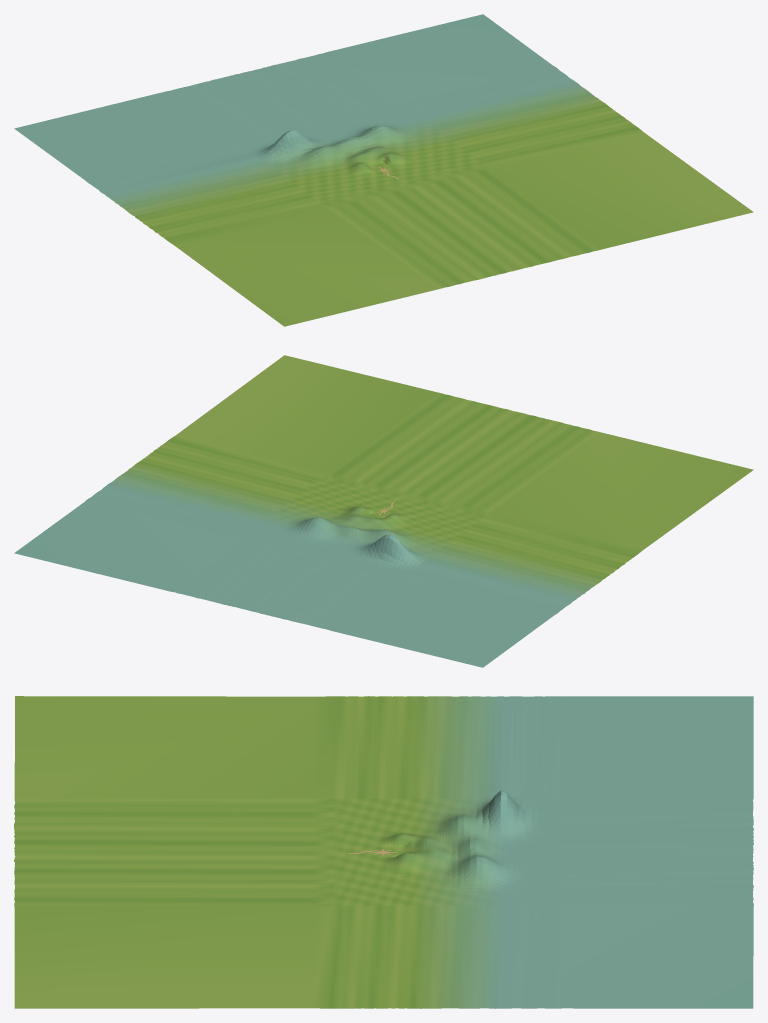
Rendered from meadow.glb.
The picture shows the model from 3 angles, top to bottom: view 1: azimuth 30°, elevation 25°; view 2: azimuth 150°, elevation 25°; view 3: azimuth 270°, elevation 25°; orthographic projection. The views are drawn at different scales.
Parts seen in each view (by area): view 1: Pajiste; view 2: Pajiste; view 3: Pajiste.
Part boxes in pixels (box(x1,y1,x2,y2)): Pajiste: box(14, 14, 753, 326); Pajiste: box(14, 355, 753, 667); Pajiste: box(14, 696, 753, 1008).
Bounding box in the file's own units: 481 × 19.84 × 481.
